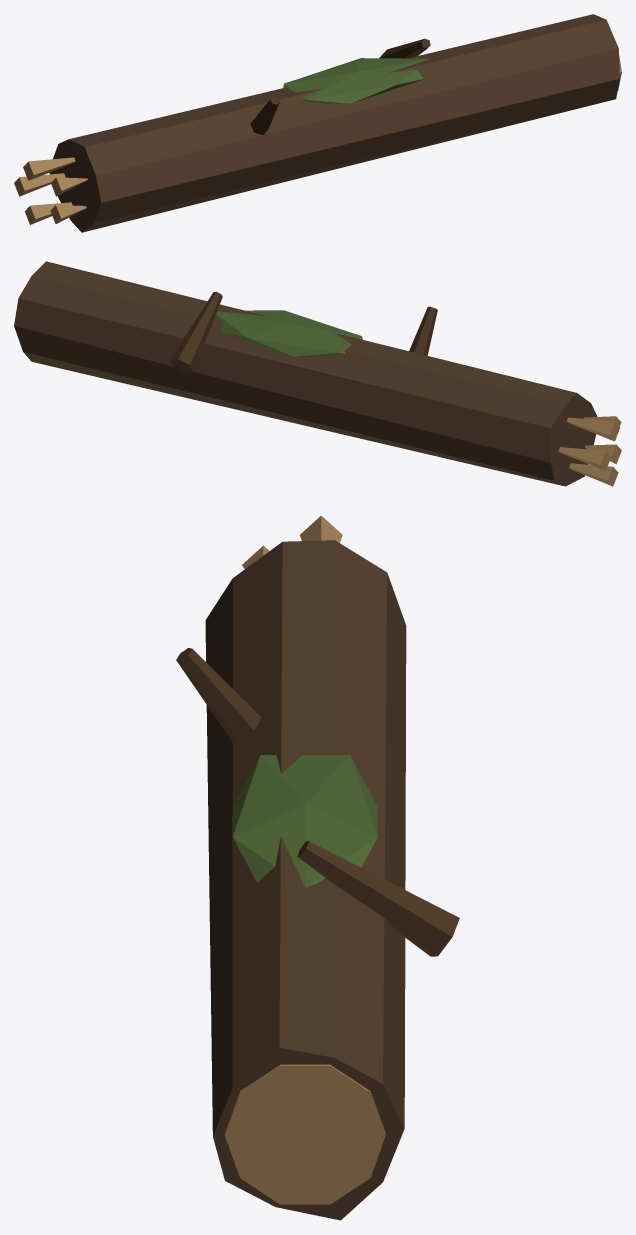
The model's file is Log2.glb.
3 views of the same model, one above another, from view 1: azimuth 30°, elevation 25°; view 2: azimuth 150°, elevation 25°; view 3: azimuth 270°, elevation 25° (orthographic). The views are drawn at different scales.
Parts seen in each view (by area): view 1: Log2; view 2: Log2; view 3: Log2.
Part boxes in pixels (x1,y1,x2,y2): Log2: (14, 14, 621, 232); Log2: (14, 261, 621, 486); Log2: (176, 515, 459, 1220).
Size of the model in its own units: 15.26 by 2.89 by 3.29.
